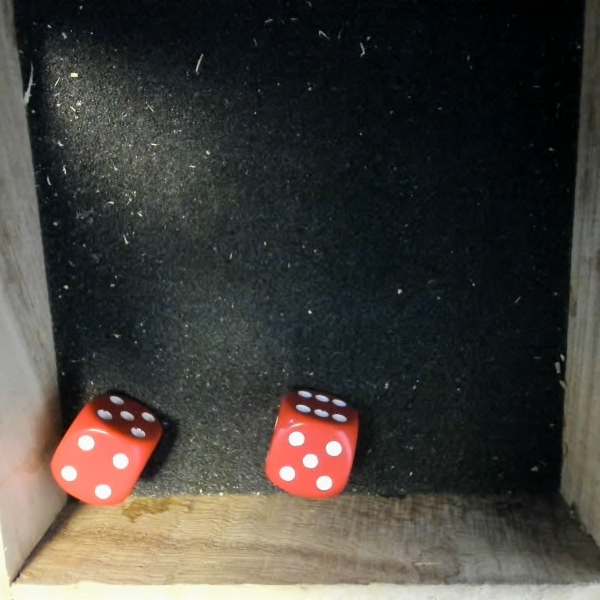red_die_pip4: (39, 378, 176, 522)
red_die_pip5: (252, 379, 371, 509)
